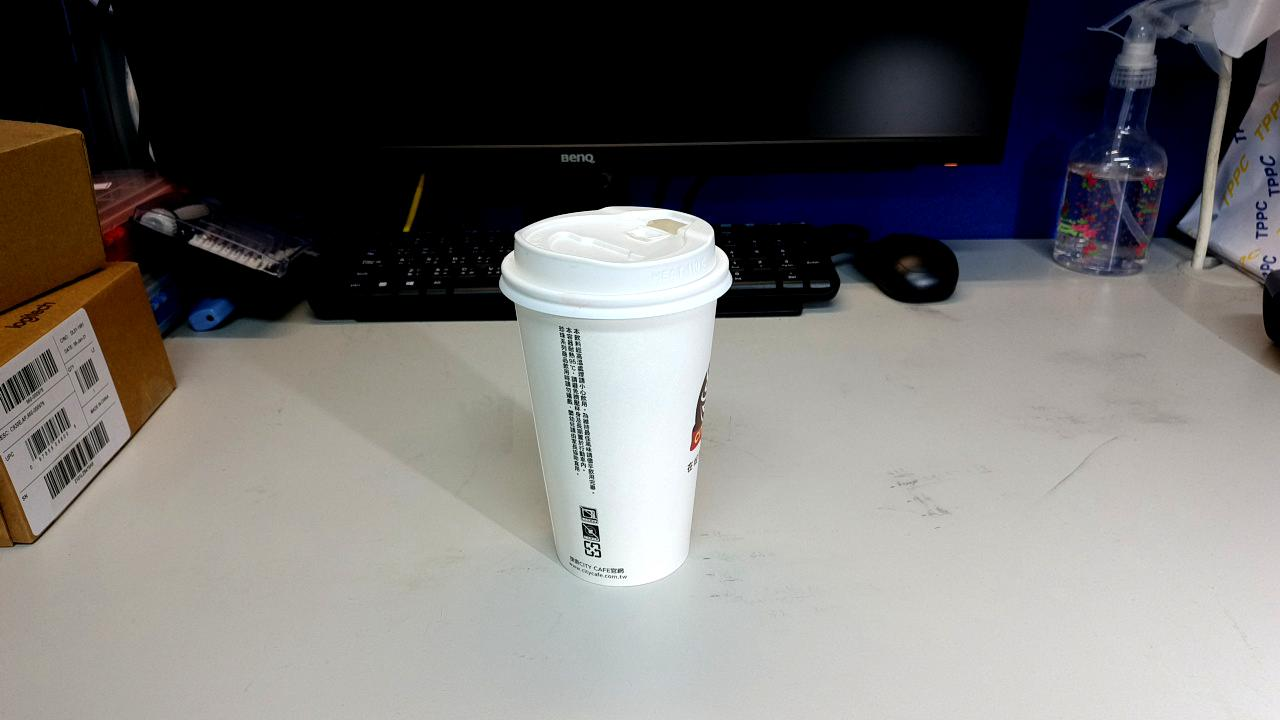columnar: (798, 277, 1014, 526)
grip: (782, 365, 859, 489)
